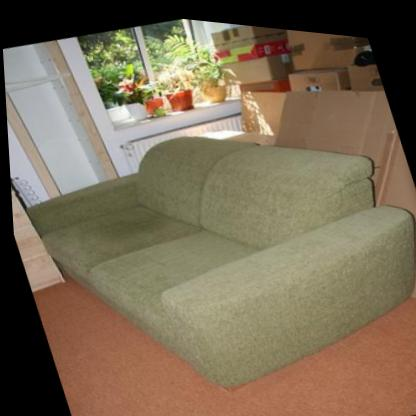Sofa: (3, 62, 416, 416)
